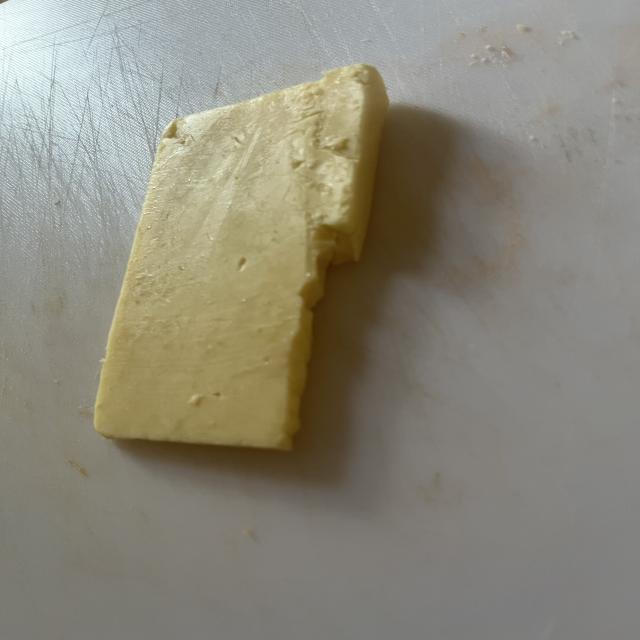cheese: (94, 64, 388, 449)
